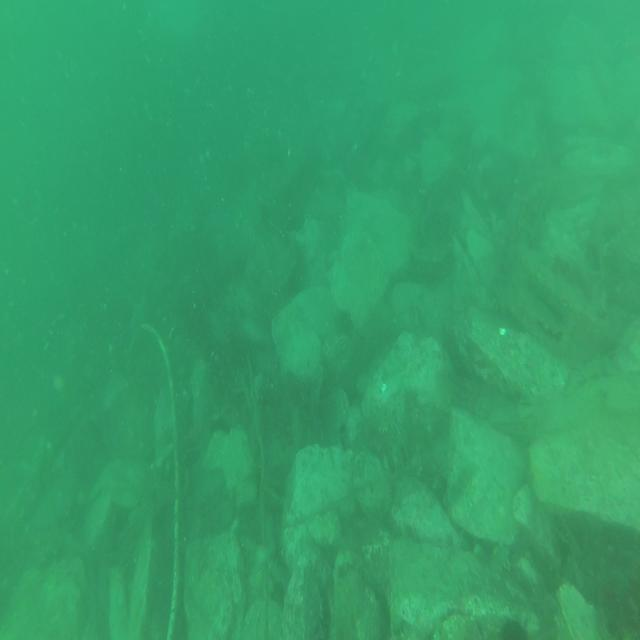echinus: (335, 306, 357, 342), (499, 615, 529, 640)
holothurian: (508, 236, 582, 318), (498, 286, 568, 356), (487, 539, 512, 576)
